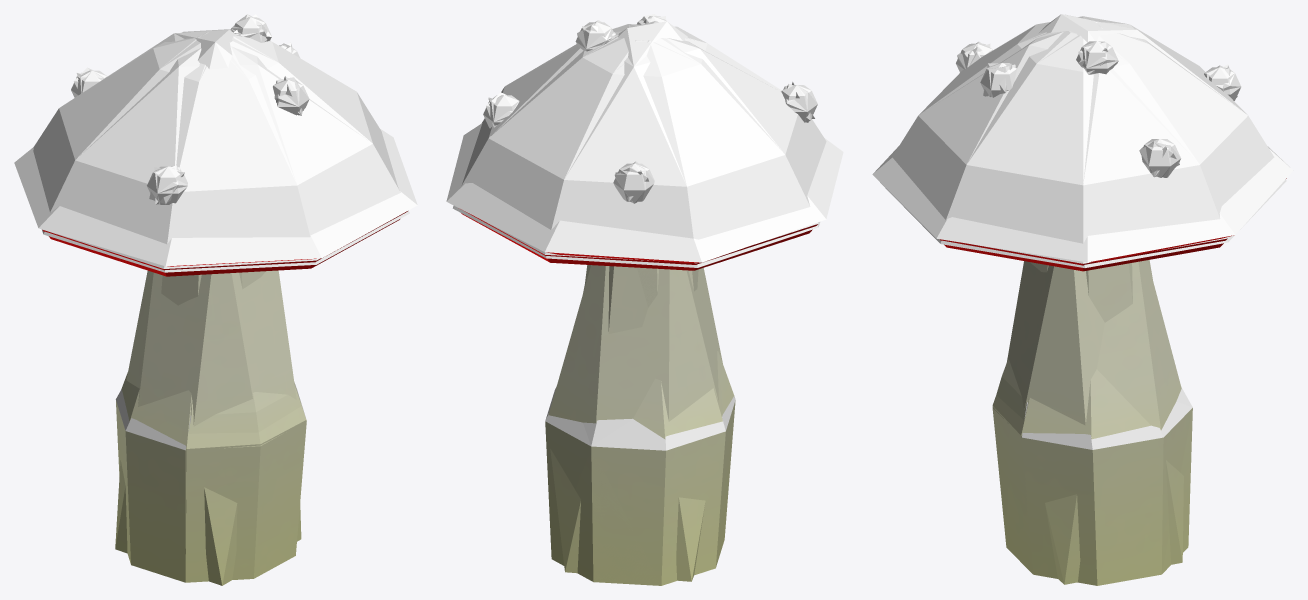
Rendered from Mushroom_12_Snowy.fbx.
The picture shows the model from 3 angles, left to right: view 1: azimuth 30°, elevation 25°; view 2: azimuth 150°, elevation 25°; view 3: azimuth 270°, elevation 25°; orthographic projection.
Visible parts, largest first — view 1: Mushroom 12_LOD0_Snowy, Mushroom 12_LOD1_Snowy, Mushroom 12_LOD3_Snowy, Mushroom 12_LOD2_Snowy; view 2: Mushroom 12_LOD0_Snowy, Mushroom 12_LOD1_Snowy, Mushroom 12_LOD3_Snowy, Mushroom 12_LOD2_Snowy; view 3: Mushroom 12_LOD0_Snowy, Mushroom 12_LOD1_Snowy, Mushroom 12_LOD3_Snowy, Mushroom 12_LOD2_Snowy.
Boxes of the visible parts, x1,y1,x2,y2 form: Mushroom 12_LOD0_Snowy: (33,17,407,582); Mushroom 12_LOD1_Snowy: (34,14,407,582); Mushroom 12_LOD3_Snowy: (14,14,417,585); Mushroom 12_LOD2_Snowy: (42,29,409,272); Mushroom 12_LOD0_Snowy: (461,16,826,585); Mushroom 12_LOD1_Snowy: (461,14,825,584); Mushroom 12_LOD3_Snowy: (446,16,843,581); Mushroom 12_LOD2_Snowy: (453,19,820,267); Mushroom 12_LOD0_Snowy: (892,16,1286,585); Mushroom 12_LOD1_Snowy: (893,16,1273,573); Mushroom 12_LOD3_Snowy: (872,14,1293,584); Mushroom 12_LOD2_Snowy: (880,14,1286,267).
Size of the model in its own units: 15.07 by 20.82 by 15.06.
